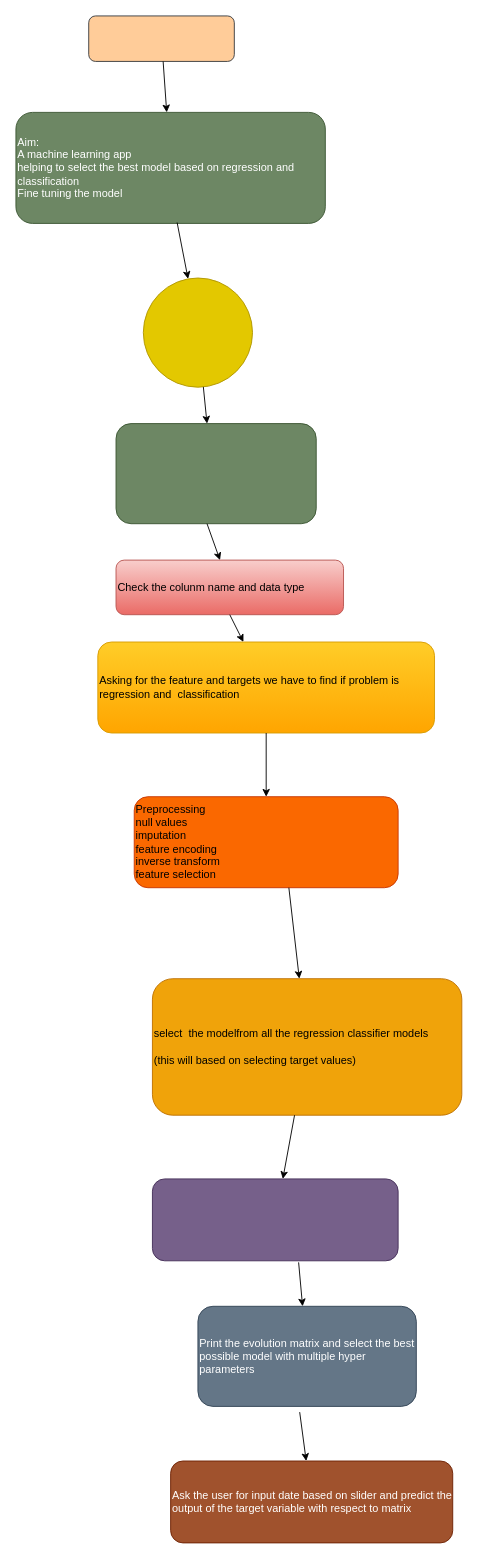
The diagram is 478 pixels wide and 1559 high, and some of its shapes have lost their labels. Here are the shapes that lost their labels. From the top down, the centre of each, then its label:
At (161,38): "our new app".
At (197,332): "load the data or upload the data".
At (215,473): "Example date button".
At (275,1219): "Add the evoltion Matrix Based on Problem".
